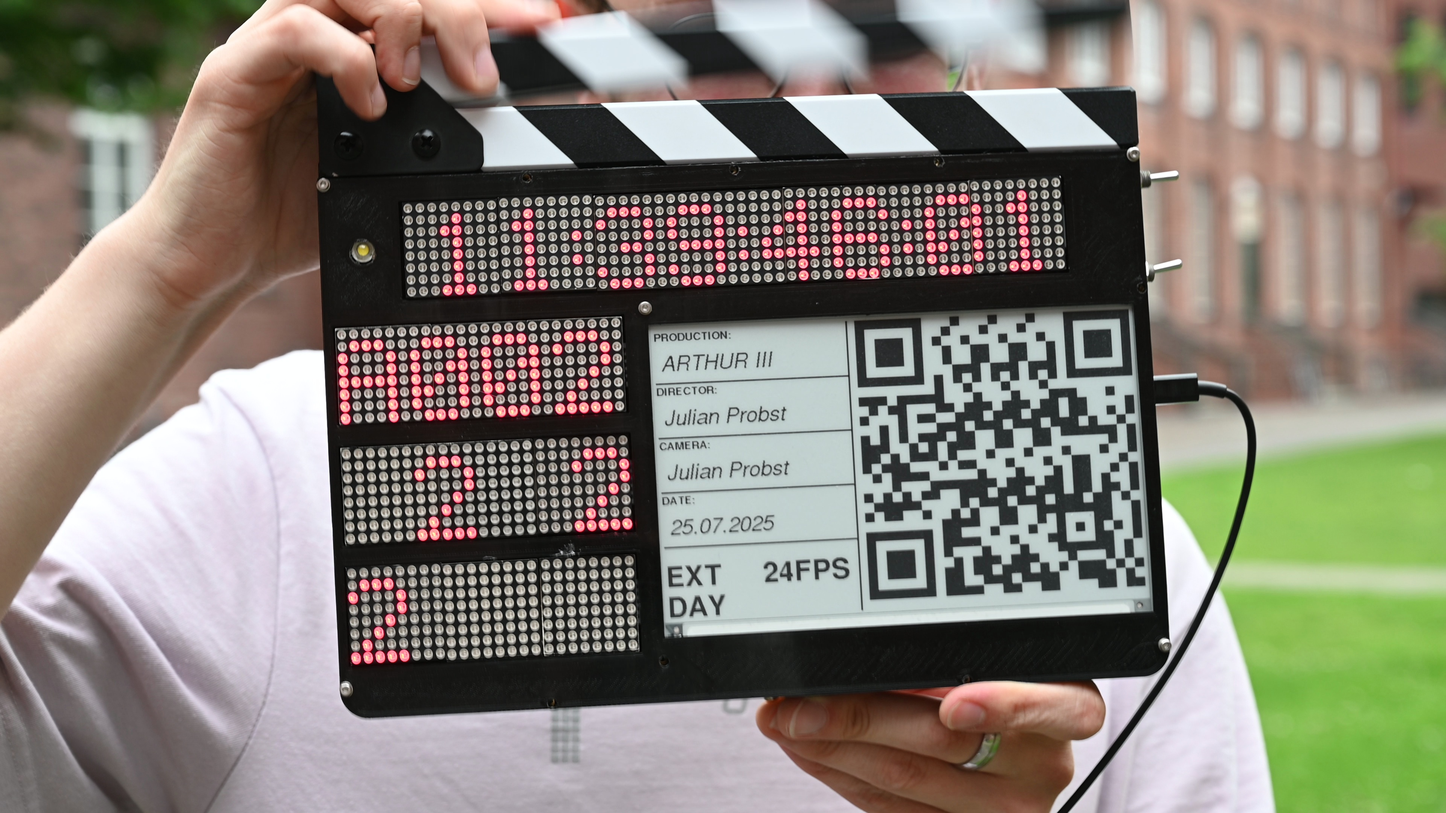ARC-SLATE: (320, 84, 1164, 715)
